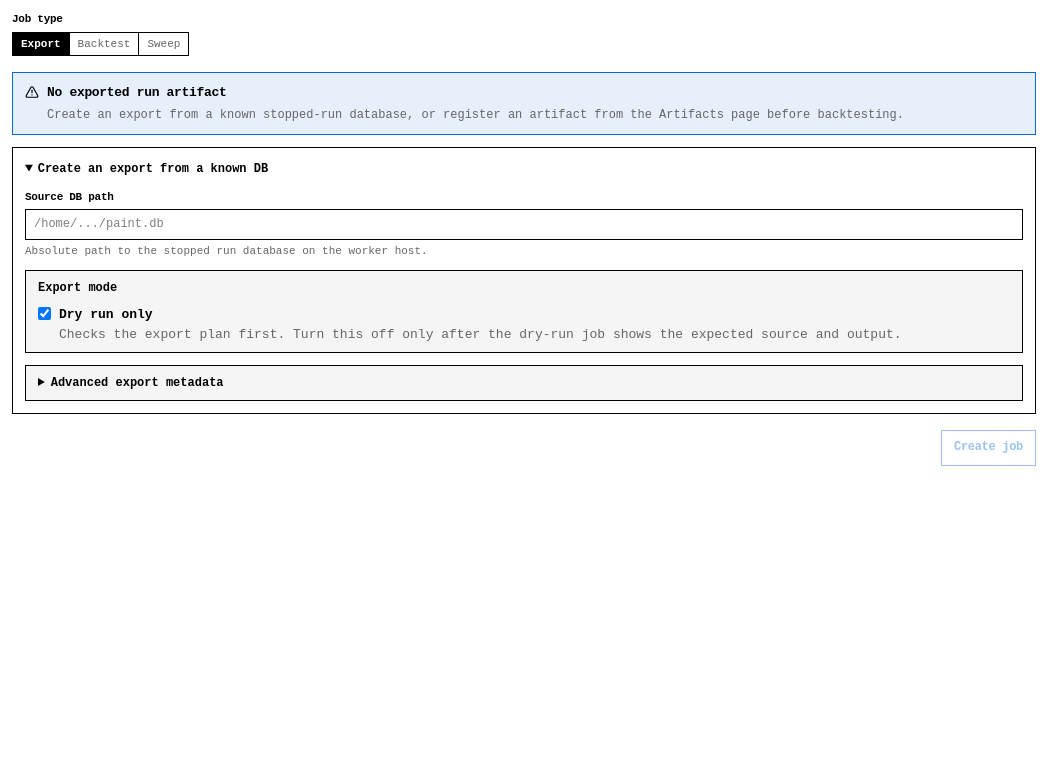
Test: JobCreateForm - export › non-dry-run export requires confirm_export to enable submit
Type "/x/paint.db" into the field with placeholder "/home/.../paint.db" at (524, 224), box [25,209,1023,240]
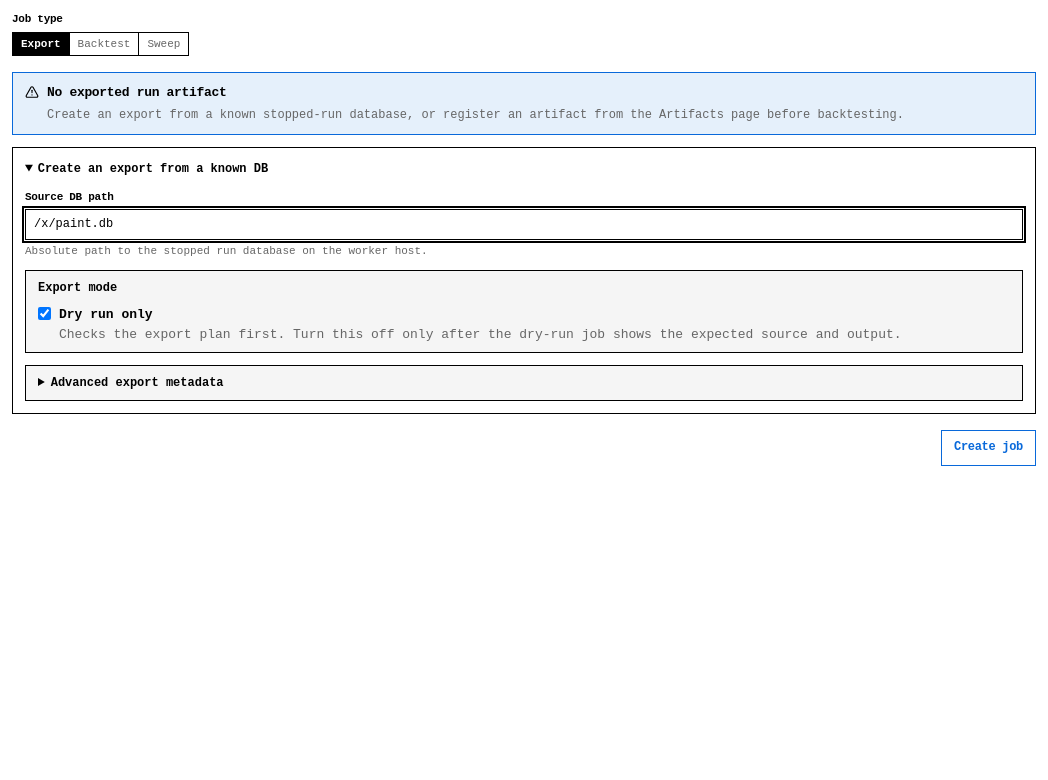
Click the checkbox labelled "Dry run only" at (44, 314), box [38,307,51,320]
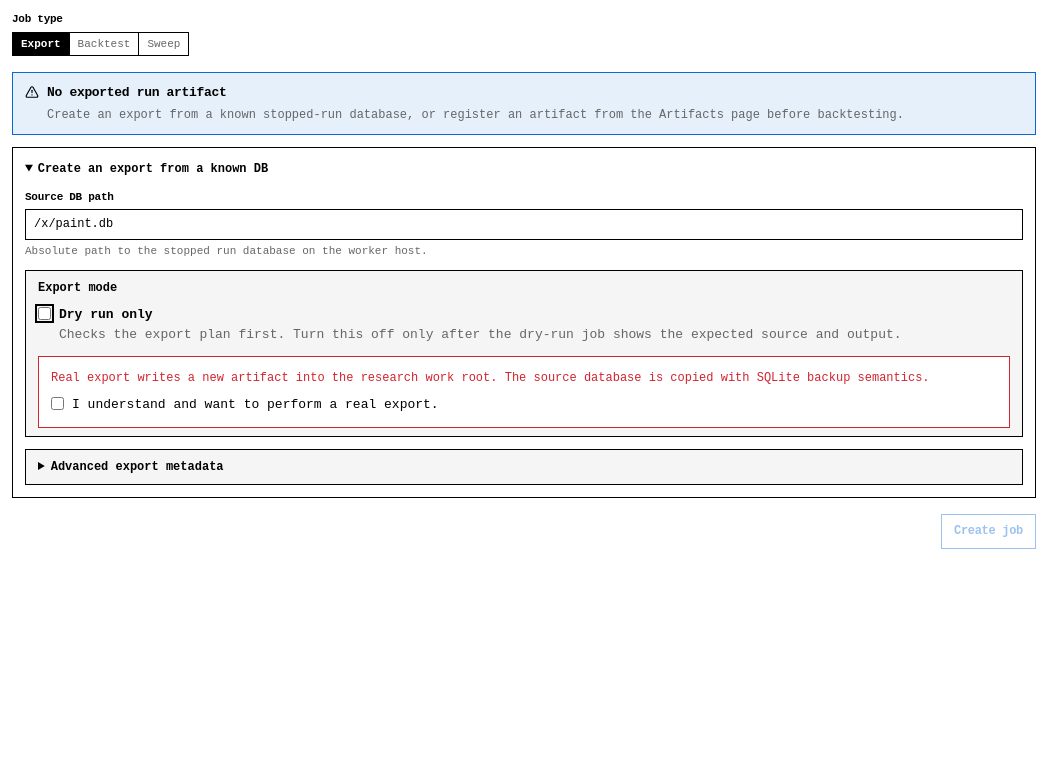
Expected: the button "Create job" is disabled, [941,514,1036,549]
Click the checkbox labelled "I understand and want to perform a real export." at (58, 404), box [51,397,64,410]
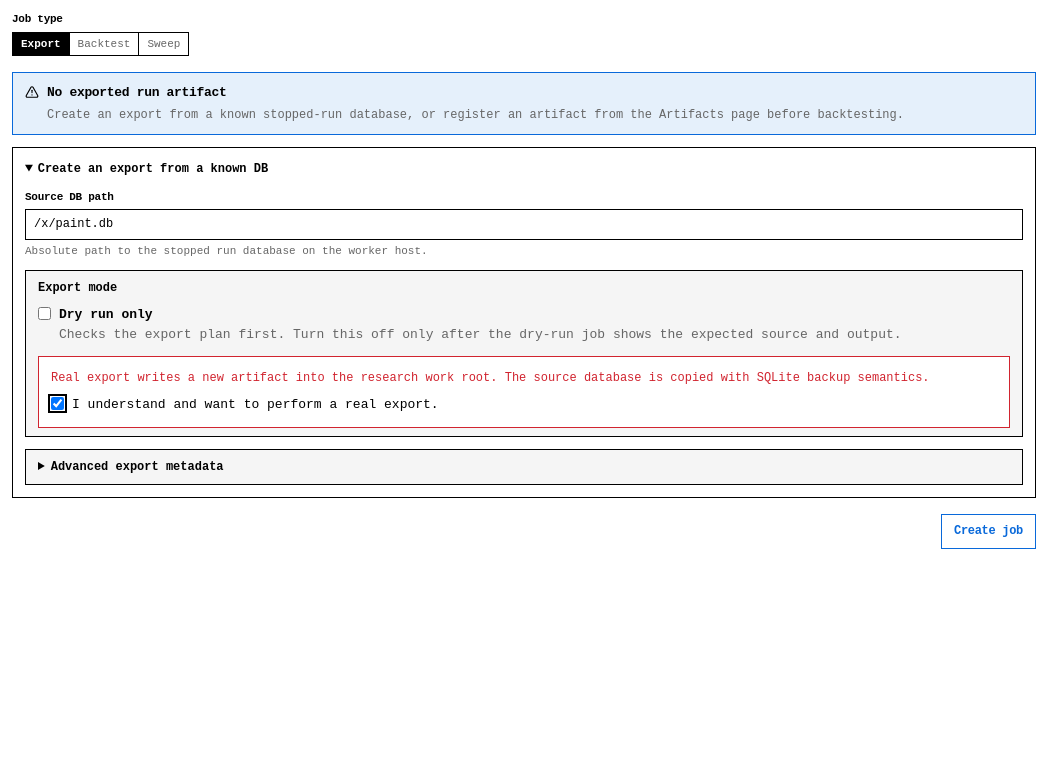
Expected: the button "Create job" is enabled, [941,514,1036,549]
